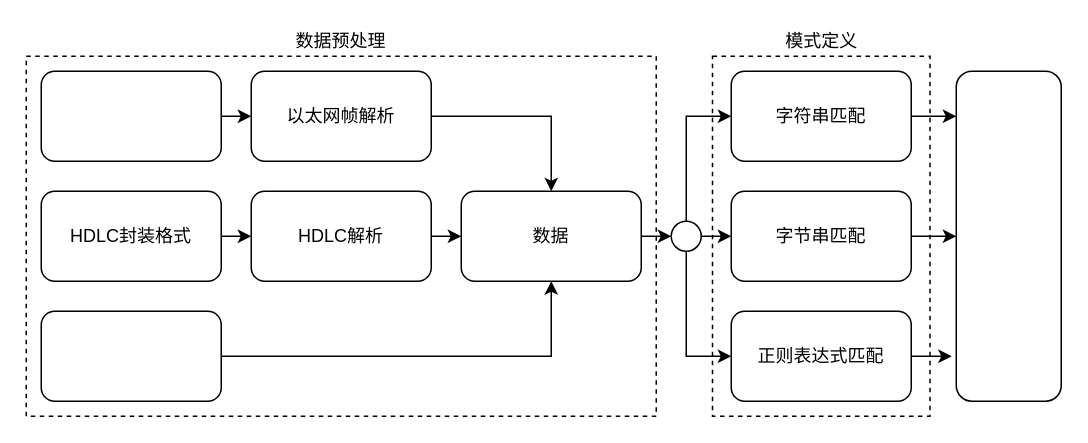
The diagram is 1088 pixels wide and 443 high, and some of its shapes have lost their labels. Here are the shapes that lost their labels. From the top down, the centre of each, then its label:
At pixel 130 115: "以太网帧格式".
At pixel 1008 235: "匹配结果".
At pixel 130 355: "二进制文件".
